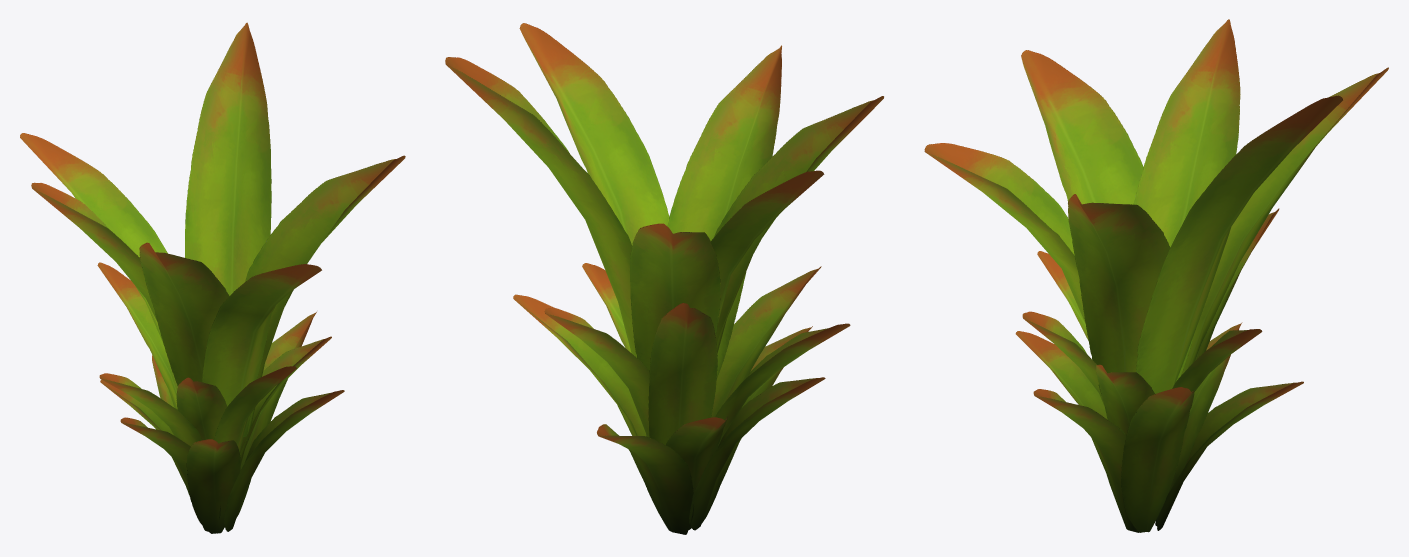
File: Plant_1_Big.glb
3 renders of one model, left to right at view 1: azimuth 30°, elevation 25°; view 2: azimuth 150°, elevation 25°; view 3: azimuth 270°, elevation 25°, orthographic. The views are drawn at different scales.
Visible parts, largest first — view 1: Plant_1_Big; view 2: Plant_1_Big; view 3: Plant_1_Big.
Boxes of the visible parts, x1,y1,x2,y2 form: Plant_1_Big: (20,22,405,533); Plant_1_Big: (445,23,883,534); Plant_1_Big: (924,19,1388,532).
Size of the model in its own units: 1.81 by 2.35 by 1.95.
1 material, 1 textured.
